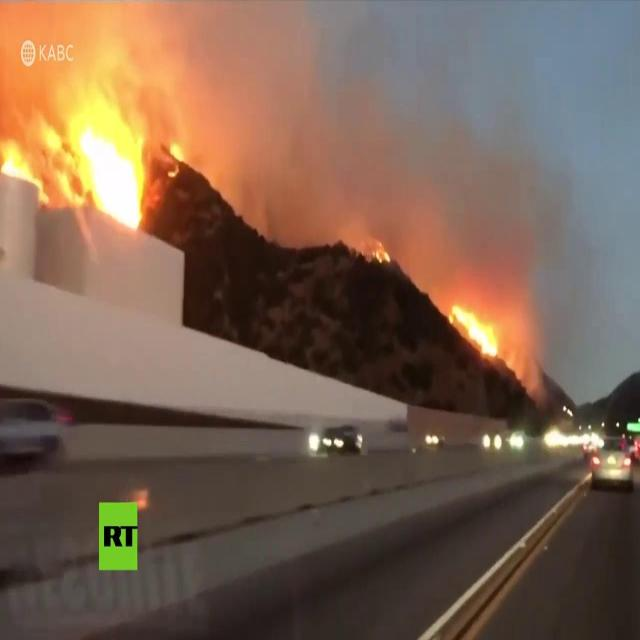Fire: (4, 97, 144, 229), (447, 303, 499, 359), (165, 145, 183, 179), (374, 243, 390, 263)
